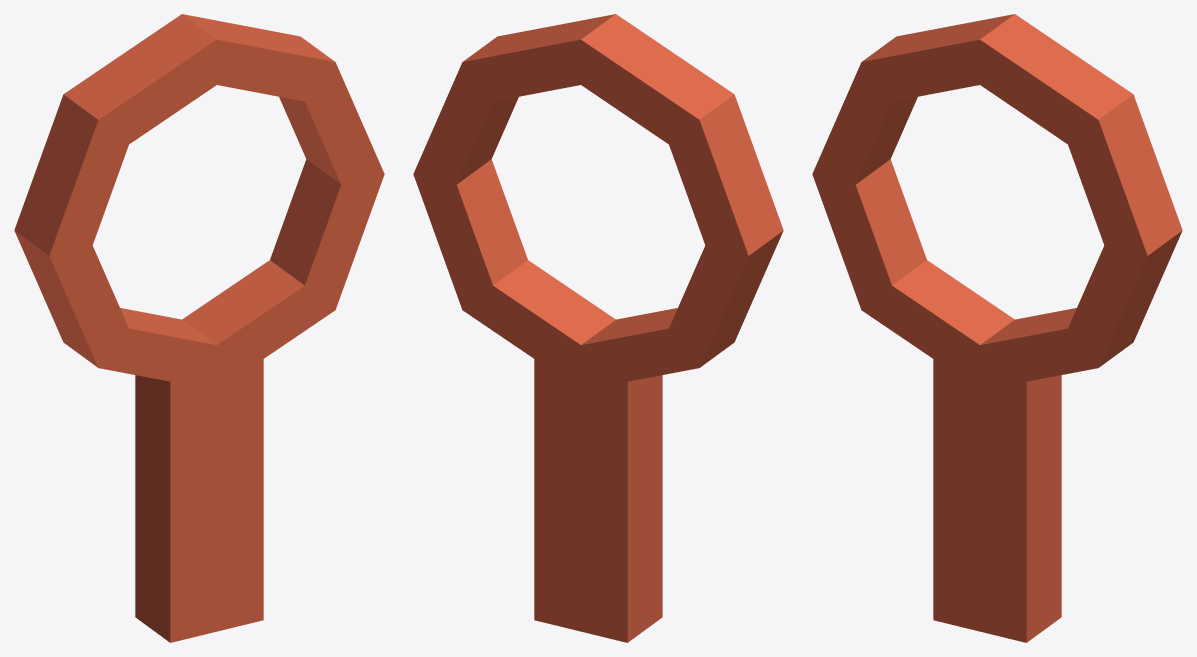
Rendered from pipestand.glb.
3 views of the same model, side by side, from view 1: azimuth 30°, elevation 25°; view 2: azimuth 150°, elevation 25°; view 3: azimuth 330°, elevation 25° (orthographic).
Parts seen in each view (by area): view 1: pipeStand; view 2: pipeStand; view 3: pipeStand.
Part boxes in pixels (<box>): pipeStand: <box>14,14,384,642</box>; pipeStand: <box>413,14,783,642</box>; pipeStand: <box>812,14,1182,642</box>.
Bounding box in the file's own units: 5.53 × 9.33 × 1.
